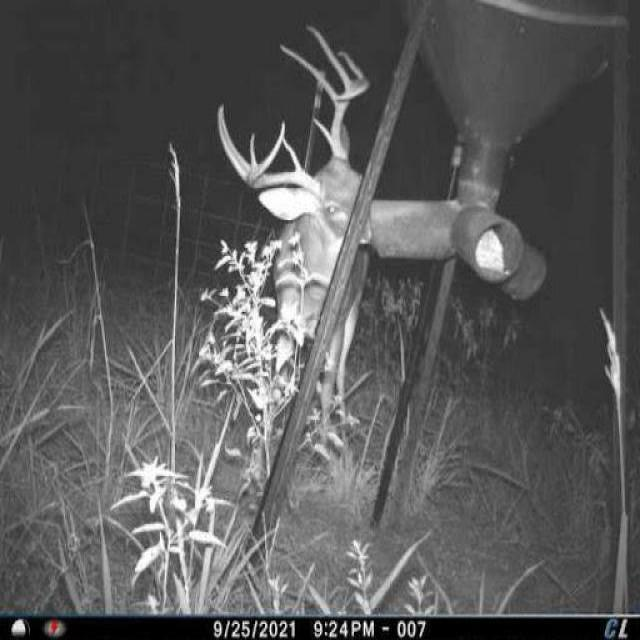deer: (211, 11, 375, 490)
